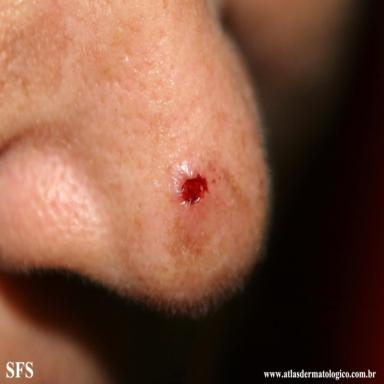basal-cell-carcinoma: (169, 160, 211, 222)
